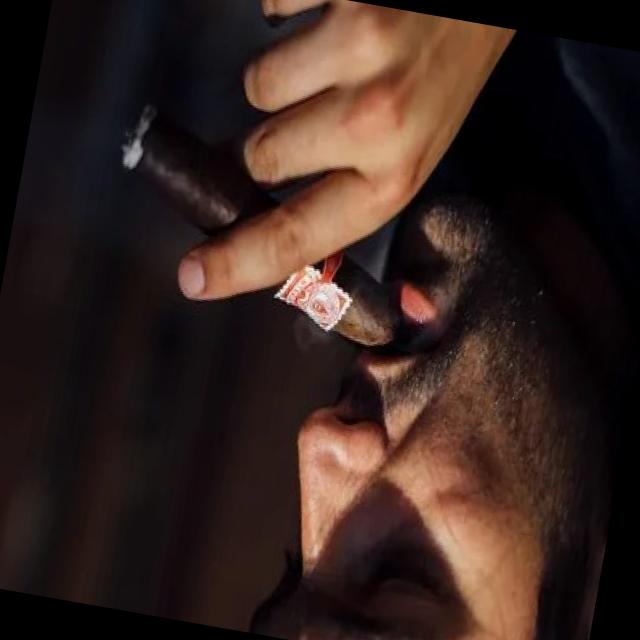cigarette: (89, 84, 434, 374)
